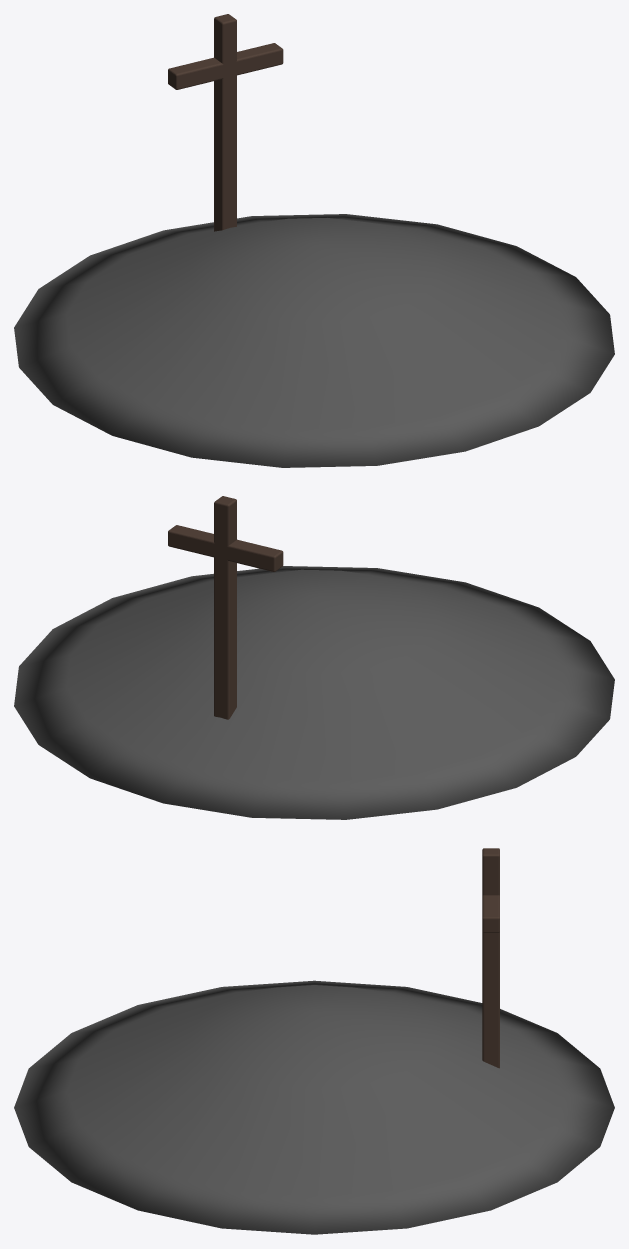
Rendered from grave_mound_fresh_grave.glb.
3 views of the same model, one above another, from view 1: azimuth 30°, elevation 25°; view 2: azimuth 150°, elevation 25°; view 3: azimuth 270°, elevation 25° (orthographic).
Parts seen in each view (by area): view 1: GD_grave_mound_fresh_grave__m0, GD_grave_mound_fresh_grave__m1; view 2: GD_grave_mound_fresh_grave__m0, GD_grave_mound_fresh_grave__m1; view 3: GD_grave_mound_fresh_grave__m0, GD_grave_mound_fresh_grave__m1.
Boxes of the visible parts, left/top/right/bottom form: GD_grave_mound_fresh_grave__m0: left=14, top=214, right=614, bottom=467; GD_grave_mound_fresh_grave__m1: left=168, top=14, right=283, bottom=231; GD_grave_mound_fresh_grave__m0: left=14, top=566, right=614, bottom=819; GD_grave_mound_fresh_grave__m1: left=168, top=496, right=283, bottom=719; GD_grave_mound_fresh_grave__m0: left=14, top=980, right=614, bottom=1234; GD_grave_mound_fresh_grave__m1: left=482, top=848, right=499, bottom=1068.
Size of the model in its own units: 1.7 by 0.8 by 1.7.
